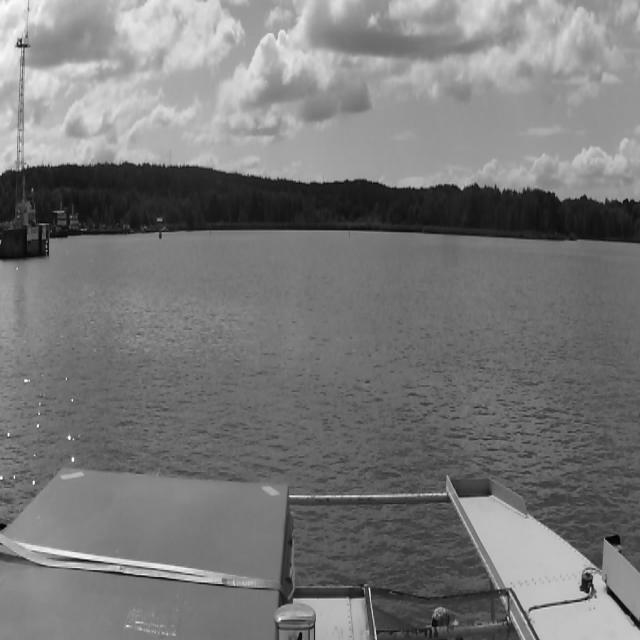buoy: (158, 219, 162, 241)
